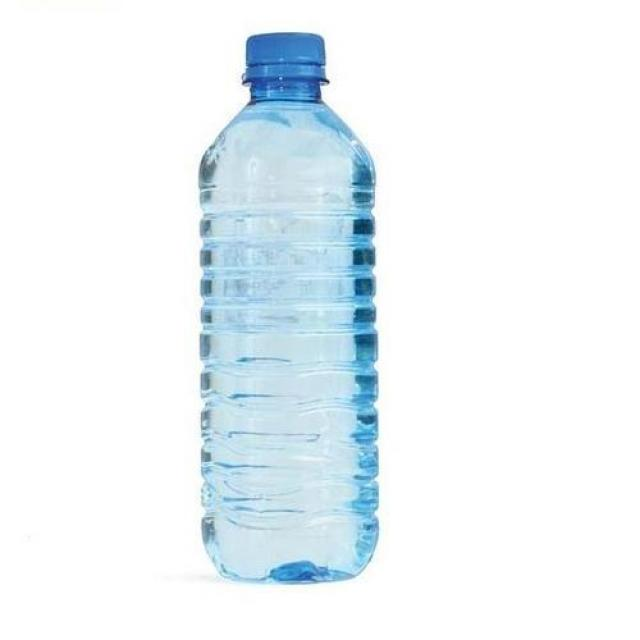plastic_bottle: (183, 30, 422, 588)
